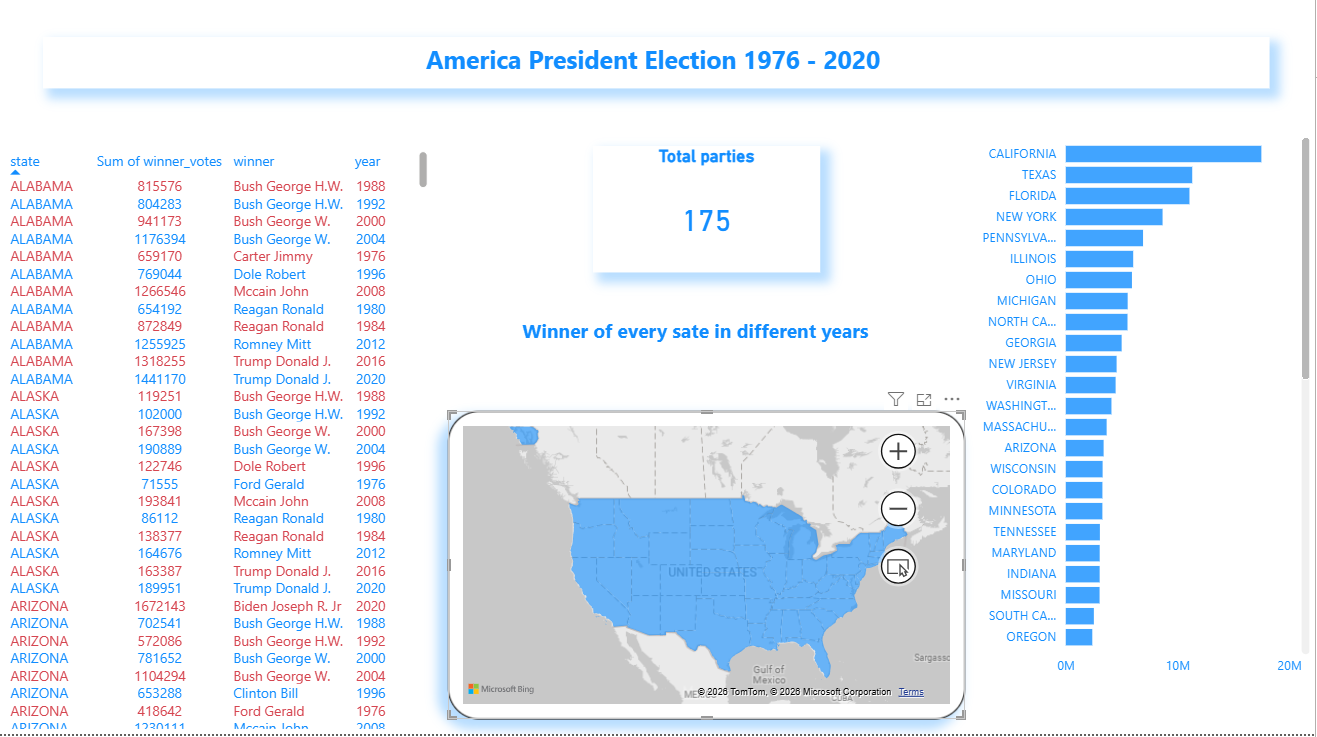

Layout of this report page (visuals, bound fields, positions):
{"tool":"powerbi","page":{"name":"Page 1","canvas":[1280,720],"ordinal":0},"visuals":[{"type":"tableEx","fields":{"Values":["usa  Q4.state","Sum(usa  Q4.winner_votes)","usa  Q4.winner","usa  Q4.year"]},"box":[0,147.8,422.1,571.9],"z":0},{"type":"filledMap","fields":{"Category":["usa  Q4.state"]},"box":[436.7,405.6,502.9,299.6],"z":1000},{"type":"textbox","box":[42.8,41.8,1193.4,49.6],"z":2000},{"type":"card","title":"Total parties ","fields":{"Values":["Sum(usa j1.total_parties)"]},"box":[577.8,147.8,220.8,122.6],"z":3000},{"type":"textbox","box":[436.7,309.3,486.3,50.6],"z":4000},{"type":"barChart","fields":{"Category":["usa  Q8 1.state"],"Y":["Sum(usa  Q8 1.candidatevotes)"]},"box":[939.6,126.4,340.4,544.7],"z":5000}]}

Visuals, with their boxes in screenshot pixels (x1, y1, x2, y2), scaled from the page's 1280x720 canvas onto the 1317x737 screenshot:
tableEx - usa  Q4.state x Sum(usa  Q4.winner_votes): bbox=(0, 151, 434, 736)
filledMap - usa  Q4.state: bbox=(449, 415, 967, 722)
textbox: bbox=(44, 43, 1272, 94)
"Total parties " card: bbox=(595, 151, 822, 277)
textbox: bbox=(449, 317, 950, 368)
barChart - usa  Q8 1.state x Sum(usa  Q8 1.candidatevotes): bbox=(967, 129, 1316, 687)
